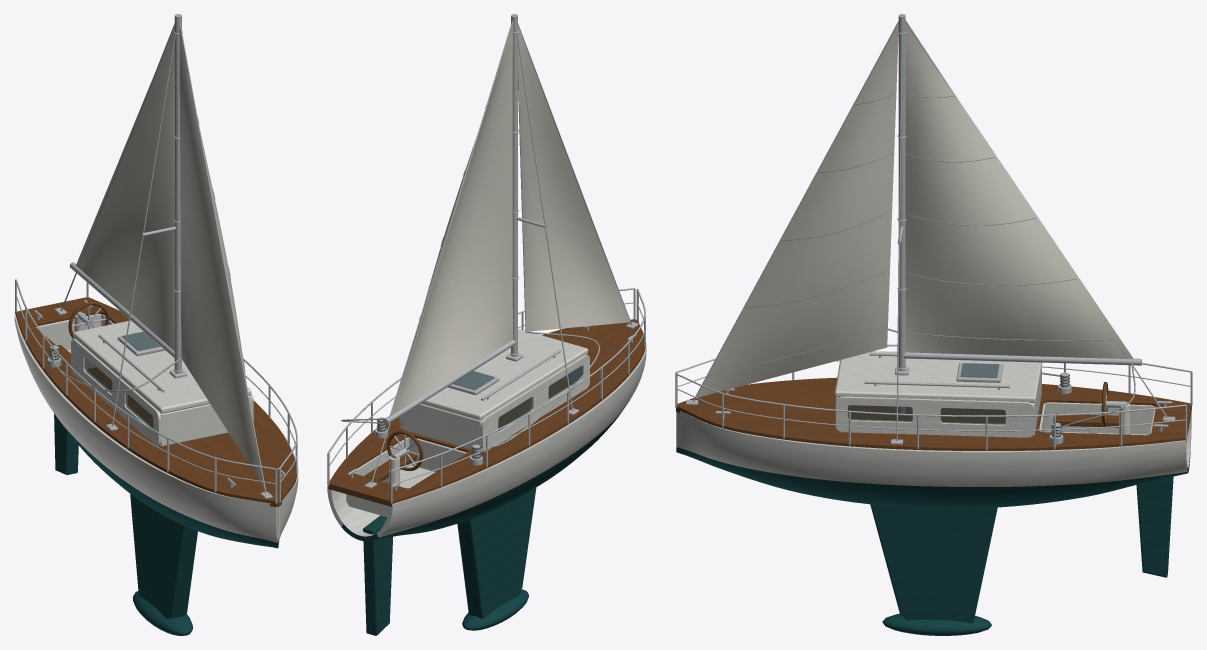
The model's file is recreation.glb.
3 renders of one model, left to right at view 1: azimuth 30°, elevation 25°; view 2: azimuth 150°, elevation 25°; view 3: azimuth 270°, elevation 25°, orthographic. The views are drawn at different scales.
Parts seen in each view (by area): view 1: R-Mainsail, R-Jib, R-Deck, R-Hull, R-Keel, R-Cabin-Roof, R-Cabin-Starboard, R-Mast, R-Cabin-End--0.72, R-Keel-Bulb, R-Rudder, R-Standing-Stay-0 (+10 smaller); view 2: R-Mainsail, R-Jib, R-Hull, R-Deck, R-Keel, R-Cabin-Roof, R-Cabin-Starboard, R-Rudder, R-Cabin-End-0.56, R-Mast, R-Keel-Bulb, R-Cockpit-Wall-Forward (+12 smaller); view 3: R-Mainsail, R-Jib, R-Hull, R-Deck, R-Keel, R-Cabin-Roof, R-Cabin-Port, R-Rudder, R-Mast, R-Cockpit-Wall-Starboard, R-Boom, R-Keel-Bulb (+9 smaller).
Part boxes in pixels (x1=…): R-Mainsail: x1=76, y1=26, x2=174, y2=350; R-Jib: x1=179, y1=27, x2=264, y2=488; R-Deck: x1=15, y1=297, x2=296, y2=506; R-Hull: x1=14, y1=315, x2=298, y2=548; R-Keel: x1=130, y1=494, x2=197, y2=619; R-Cabin-Roof: x1=73, y1=320, x2=251, y2=413; R-Cabin-Starboard: x1=71, y1=339, x2=161, y2=445; R-Mast: x1=174, y1=14, x2=181, y2=373; R-Cabin-End--0.72: x1=160, y1=396, x2=250, y2=446; R-Keel-Bulb: x1=133, y1=591, x2=192, y2=635; R-Rudder: x1=54, y1=413, x2=78, y2=474; R-Standing-Stay-0: x1=178, y1=15, x2=266, y2=493; R-Mainsail: x1=389, y1=23, x2=512, y2=416; R-Jib: x1=518, y1=25, x2=629, y2=331; R-Hull: x1=327, y1=342, x2=646, y2=541; R-Deck: x1=328, y1=319, x2=645, y2=506; R-Keel: x1=457, y1=487, x2=536, y2=618; R-Cabin-Roof: x1=421, y1=328, x2=588, y2=420; R-Cabin-Starboard: x1=480, y1=354, x2=589, y2=451; R-Rudder: x1=363, y1=515, x2=392, y2=635; R-Cabin-End-0.56: x1=402, y1=404, x2=481, y2=450; R-Mast: x1=511, y1=14, x2=517, y2=356; R-Keel-Bulb: x1=462, y1=589, x2=528, y2=630; R-Cockpit-Wall-Forward: x1=409, y1=437, x2=466, y2=471; R-Mainsail: x1=905, y1=22, x2=1133, y2=359; R-Jib: x1=696, y1=24, x2=898, y2=397; R-Hull: x1=676, y1=411, x2=1191, y2=508; R-Deck: x1=676, y1=377, x2=1191, y2=450; R-Keel: x1=870, y1=504, x2=997, y2=623; R-Cabin-Roof: x1=834, y1=351, x2=1042, y2=402; R-Cabin-Port: x1=835, y1=396, x2=1034, y2=437; R-Rudder: x1=1136, y1=476, x2=1173, y2=577; R-Mast: x1=898, y1=14, x2=905, y2=412; R-Cockpit-Wall-Starboard: x1=1045, y1=402, x2=1153, y2=434; R-Boom: x1=903, y1=352, x2=1141, y2=365; R-Keel-Bulb: x1=882, y1=613, x2=991, y2=635.
Size of the model in its own units: 0.8273 by 3.2 by 2.44.
Materials: 8 (6 with a texture image).
